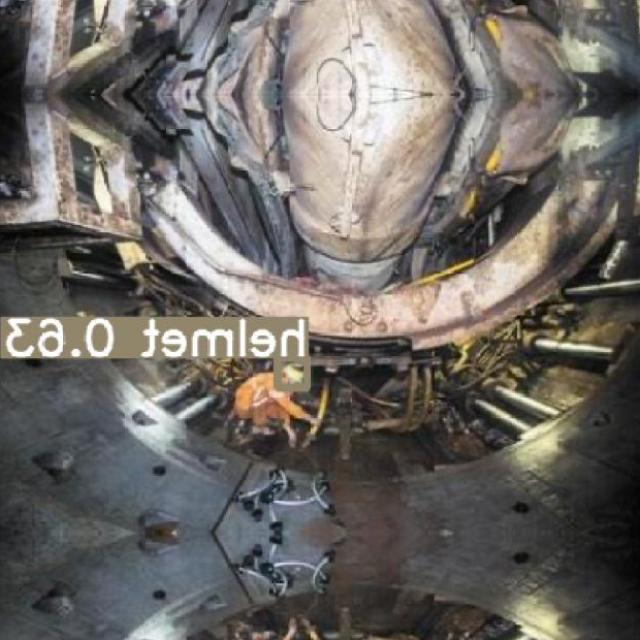helmet: (278, 357, 305, 388)
